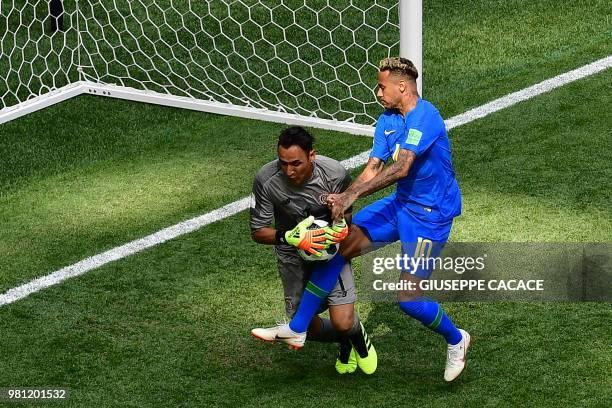Player: (252, 57, 471, 381), (251, 128, 381, 376)
ball: (298, 217, 337, 261)
